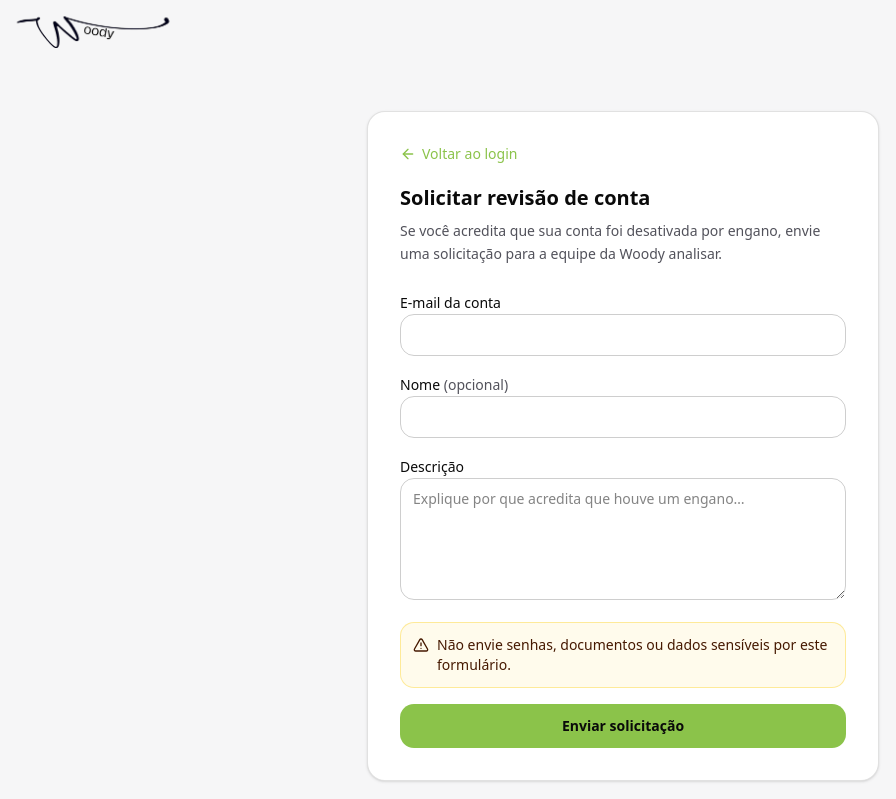
BanAppealPage › sucesso mostra mensagem genérica sem indicar existência de conta
In the field labelled "E-mail da conta": (623, 335) [400,314,846,356], type "user@example.com"
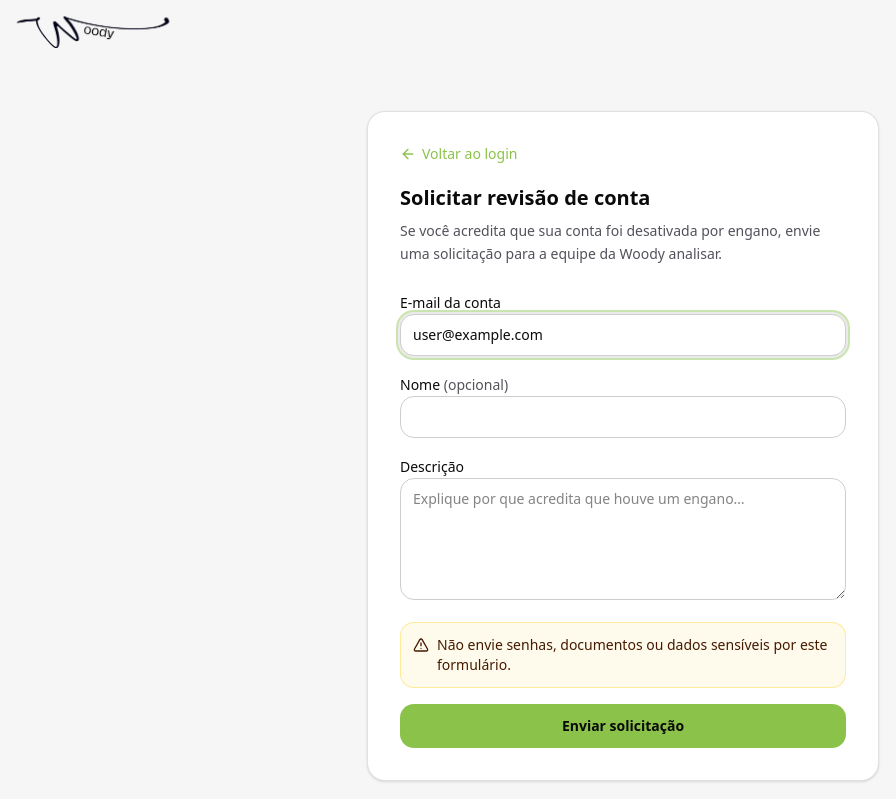
In the text box labelled "Descrição": (623, 539) [400,478,846,600], type "Acredito que minha conta foi desativada por engano e peço revisão."
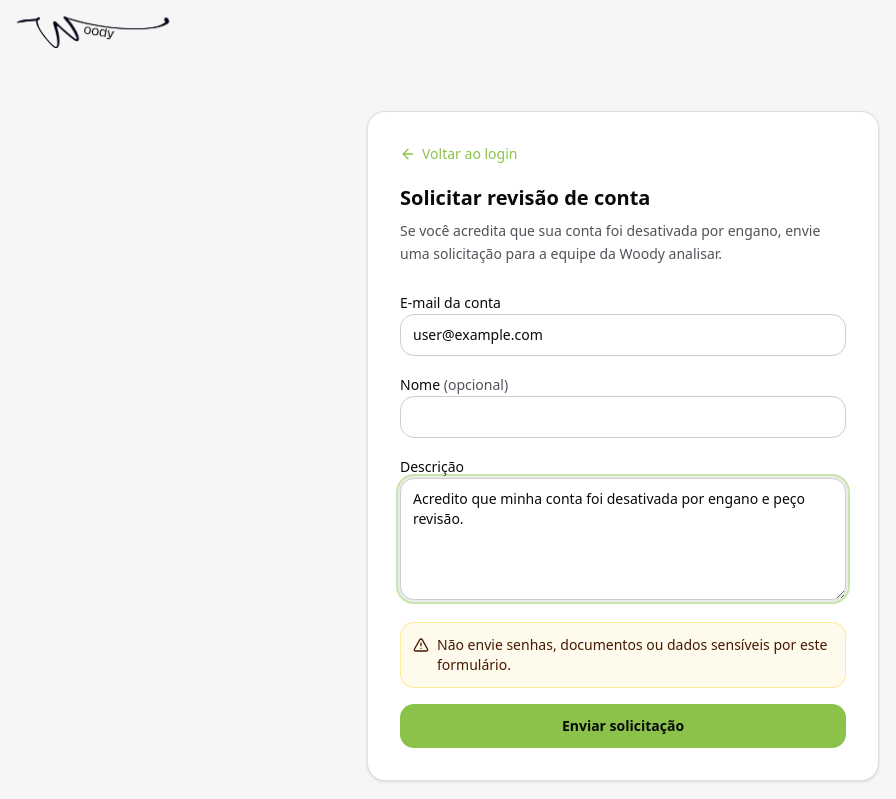
Click the button "Enviar solicitação": (623, 726) [400,704,846,748]
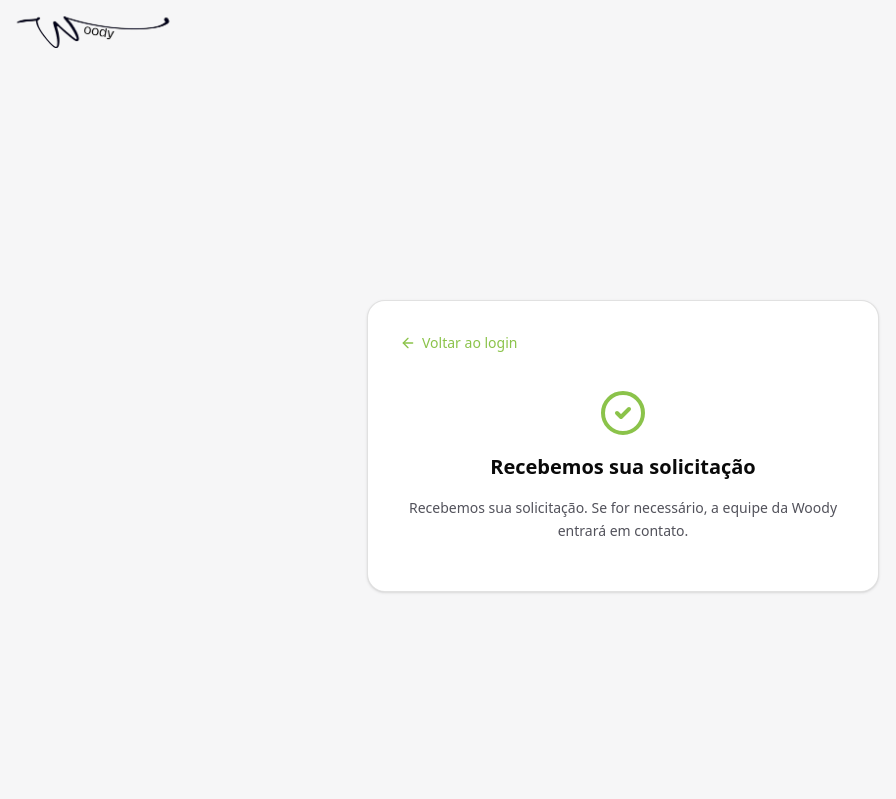
Now the heading "Recebemos sua solicitação" is shown, box [490,453,756,480]
Now the text "Recebemos sua solicitação. Se for necessário, a equipe da Woody entrará em contato." is shown, box [409,498,837,540]
